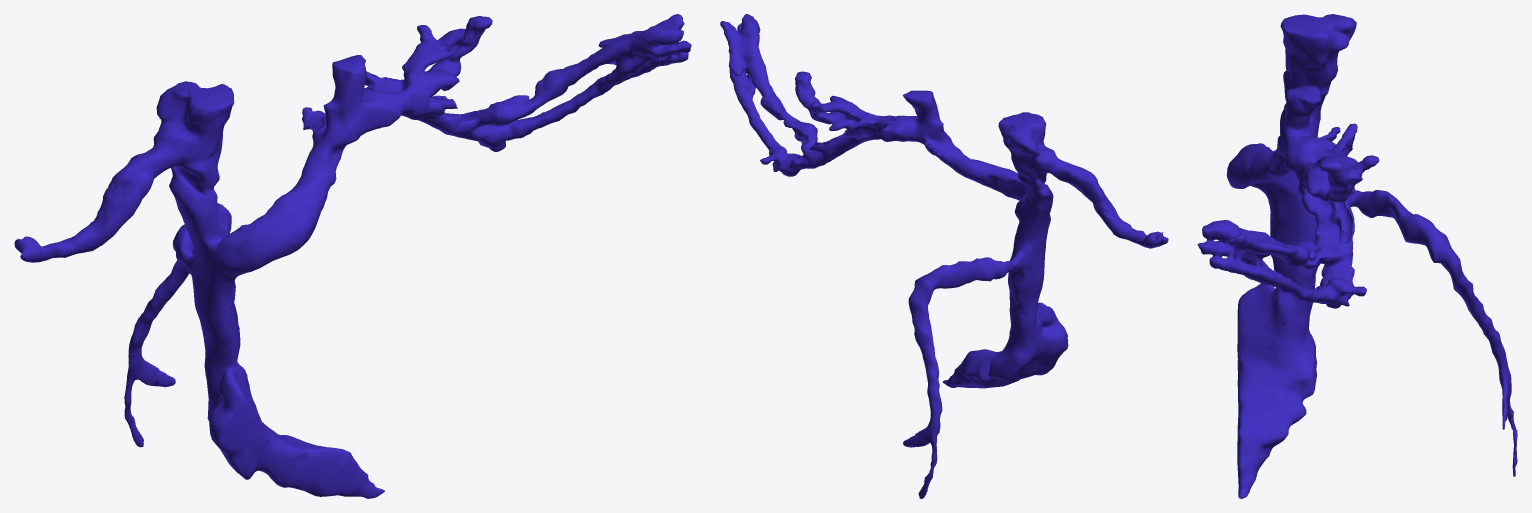
3 views of the same model, side by side, from view 1: azimuth 30°, elevation 25°; view 2: azimuth 150°, elevation 25°; view 3: azimuth 270°, elevation 25° (orthographic). The views are drawn at different scales.
Parts seen in each view (by area): view 1: Polygonal_Model_7_Triangles_0; view 2: Polygonal_Model_7_Triangles_0; view 3: Polygonal_Model_7_Triangles_0.
Boxes of the visible parts, bbox=[...] form: Polygonal_Model_7_Triangles_0: bbox=[14, 14, 691, 498]; Polygonal_Model_7_Triangles_0: bbox=[720, 14, 1168, 498]; Polygonal_Model_7_Triangles_0: bbox=[1197, 14, 1517, 498].
Bounding box in the file's own units: 12.29 × 8.16 × 5.42.
